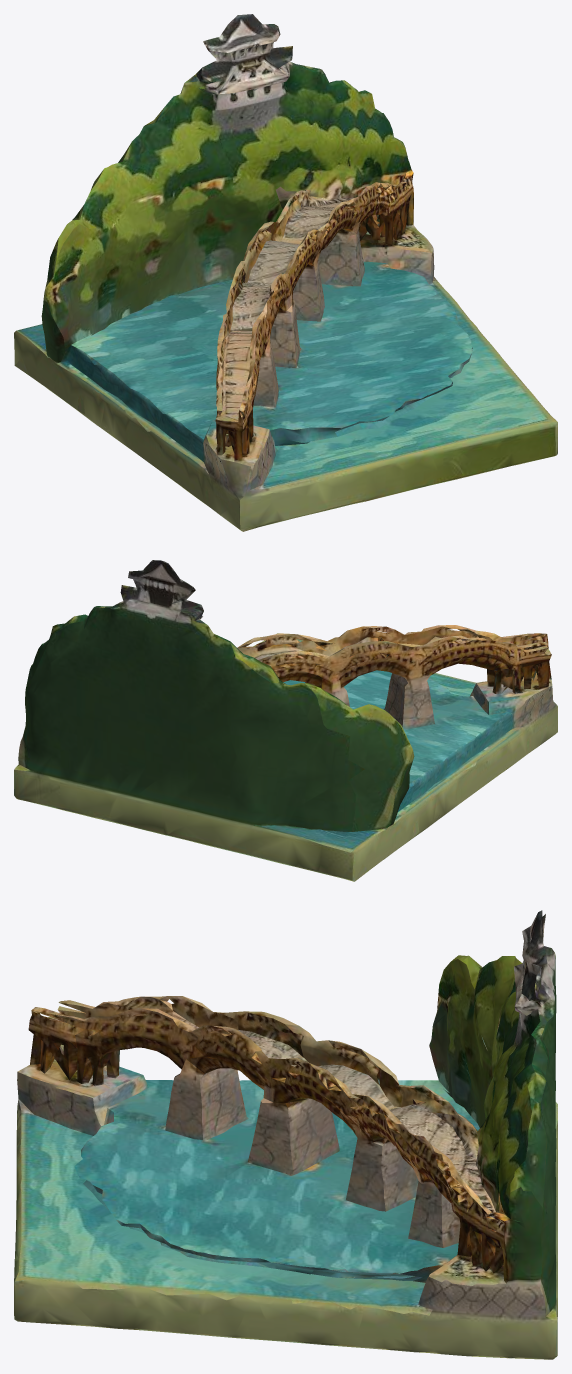
Rendered from kintaikyo.glb.
3 views of the same model, one above another, from view 1: azimuth 30°, elevation 25°; view 2: azimuth 150°, elevation 25°; view 3: azimuth 270°, elevation 25° (orthographic). The views are drawn at different scales.
Parts seen in each view (by area): view 1: logan-textured.obj; view 2: logan-textured.obj; view 3: logan-textured.obj.
Boxes of the visible parts, x1,y1,x2,y2 form: logan-textured.obj: (14,14,557,531); logan-textured.obj: (14,560,557,881); logan-textured.obj: (14,910,557,1359).
Bounding box in the file's own units: 1 × 0.7229 × 0.9994.
1 material, 1 textured.
